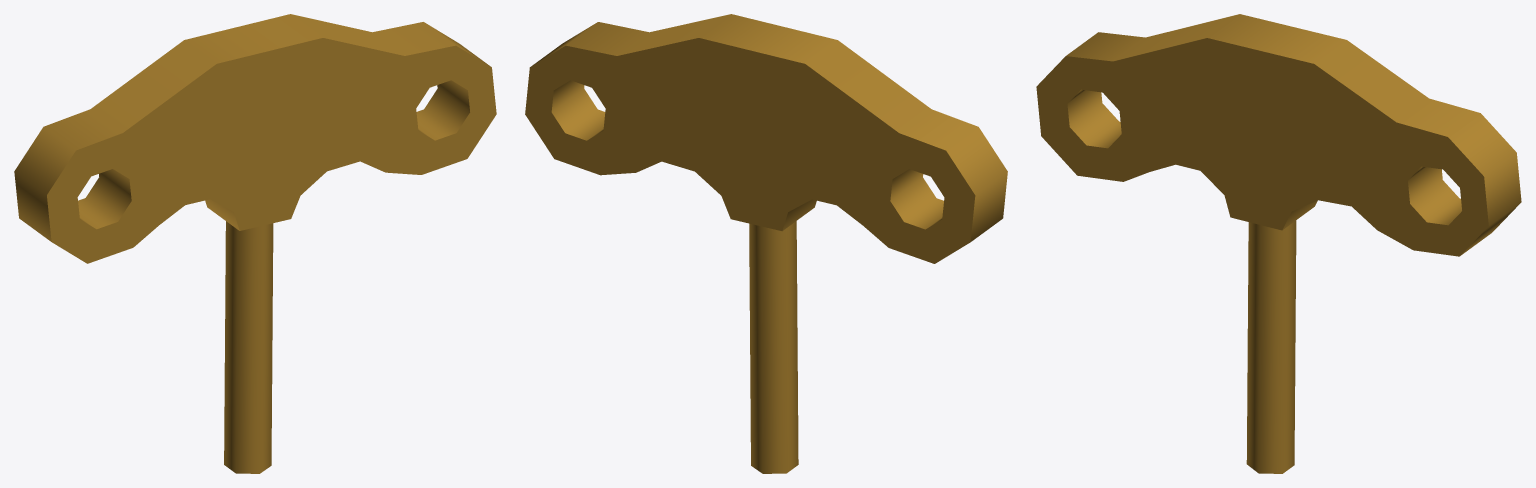
Rendered from chave_relogio_002.fbx.
3 renders of one model, left to right at view 1: azimuth 30°, elevation 25°; view 2: azimuth 150°, elevation 25°; view 3: azimuth 330°, elevation 25°, orthographic.
Parts seen in each view (by area): view 1: chave_relogio_002; view 2: chave_relogio_002; view 3: chave_relogio_002.
Boxes of the visible parts, box(x1,y1,x2,y2) form: chave_relogio_002: box(14, 14, 496, 473); chave_relogio_002: box(525, 14, 1007, 473); chave_relogio_002: box(1036, 14, 1521, 473).
Size of the model in its own units: 65.77 by 59.4 by 8.24.
